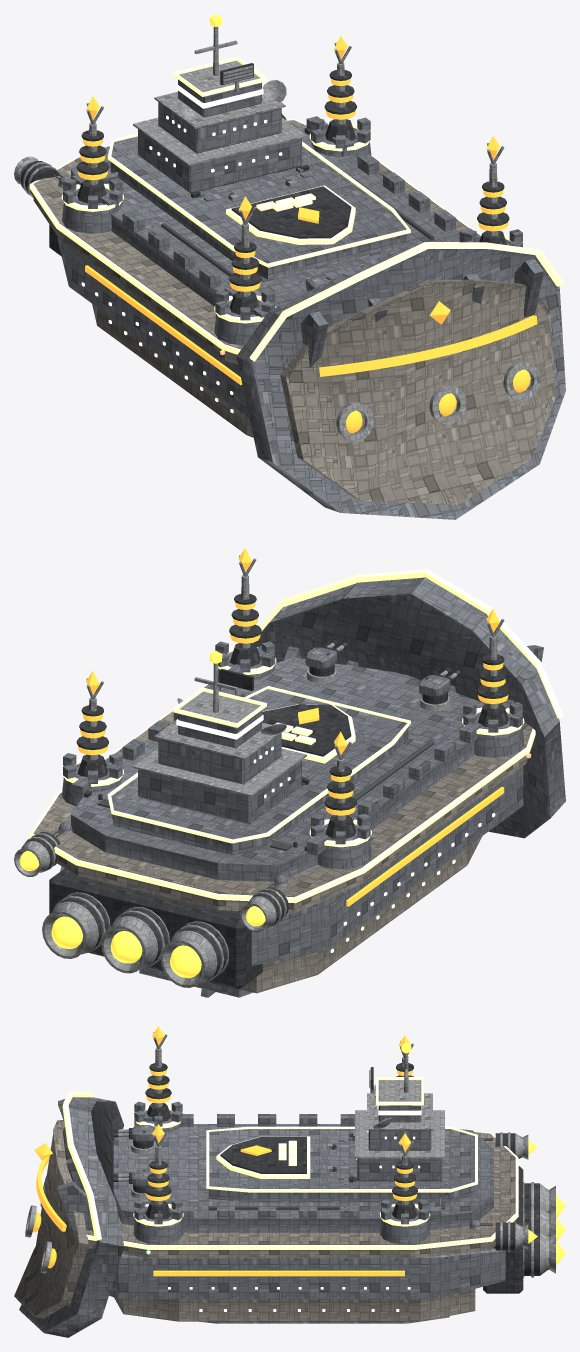
The model's file is bastion.glb.
3 renders of one model, top to bottom at view 1: azimuth 30°, elevation 25°; view 2: azimuth 150°, elevation 25°; view 3: azimuth 270°, elevation 25°, orthographic. The views are drawn at different scales.
Parts seen in each view (by area): view 1: bastion; view 2: bastion; view 3: bastion.
Part boxes in pixels (x1,y1,x2,y2): bastion: (14, 14, 565, 519); bastion: (14, 548, 565, 997); bastion: (14, 1026, 565, 1337).
Size of the model in its own units: 5.83 by 5.99 by 10.97.
11 materials, 4 textured.
